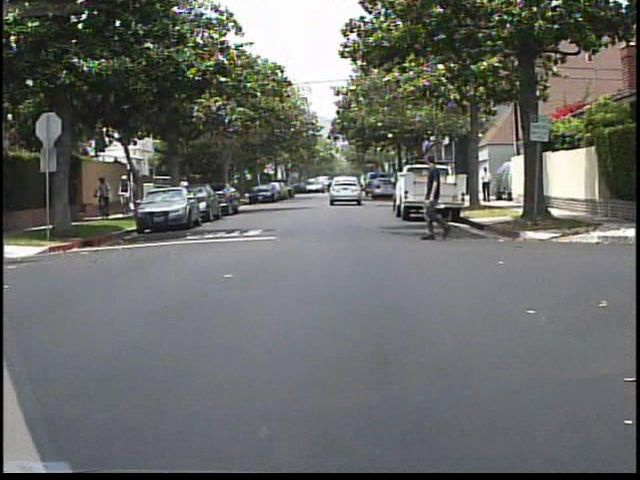person: (411, 151, 462, 240), (92, 172, 116, 217), (117, 171, 142, 211), (477, 164, 496, 204), (176, 172, 194, 207)
